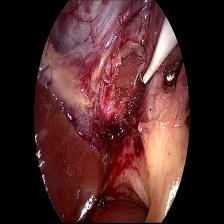Hook: (138, 16, 177, 88)
